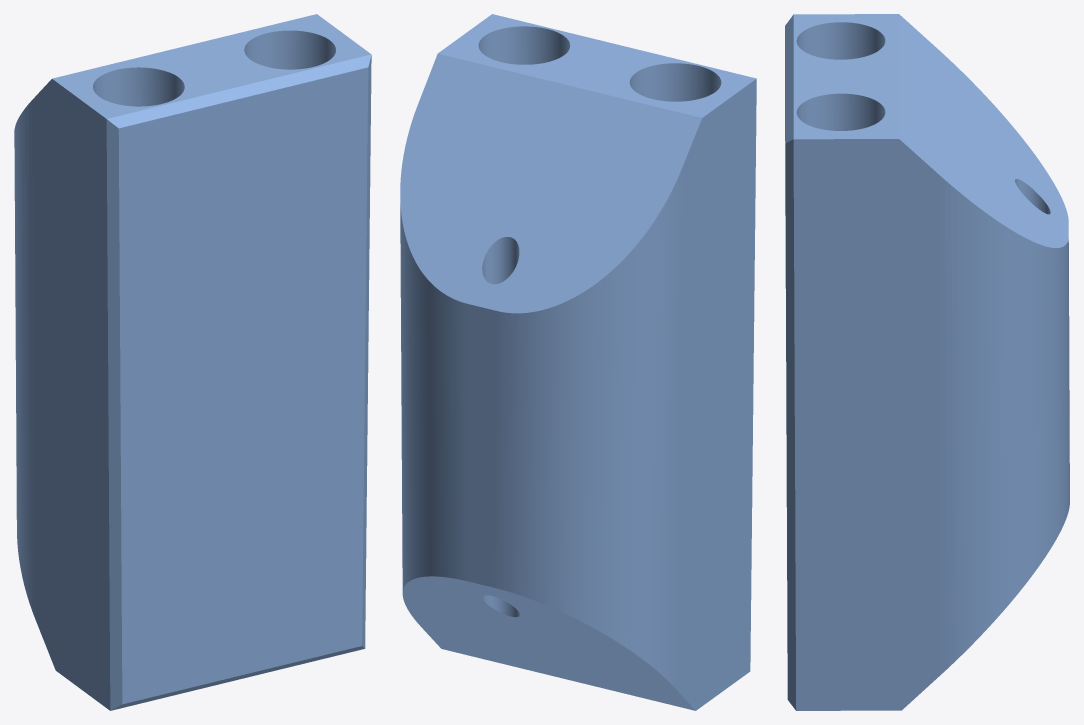
The model's file is dedo_anular_1.dae.
3 views of the same model, side by side, from view 1: azimuth 30°, elevation 25°; view 2: azimuth 150°, elevation 25°; view 3: azimuth 270°, elevation 25° (orthographic). The views are drawn at different scales.
Parts seen in each view (by area): view 1: Fingerdesign-All-2.007; view 2: Fingerdesign-All-2.007; view 3: Fingerdesign-All-2.007.
Part boxes in pixels (x1,y1,x2,y2): Fingerdesign-All-2.007: [14, 14, 371, 710]; Fingerdesign-All-2.007: [400, 14, 756, 710]; Fingerdesign-All-2.007: [785, 14, 1069, 710].
Size of the model in its own units: 0.014 by 0.0135 by 0.03.
